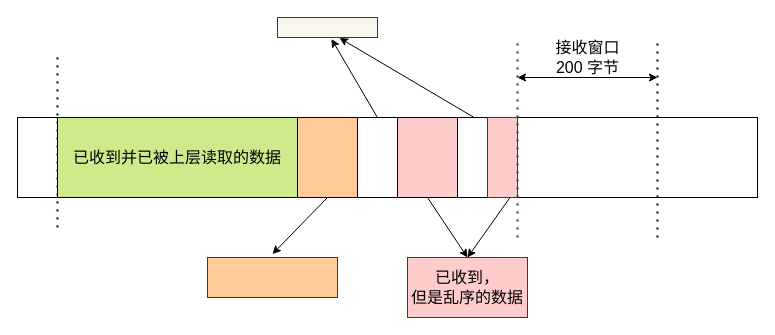
Some shapes in this 775 by 335 pixel diagram are drawn without their labels. The centre of each missing label's shape, as x and y in pixels:
"丢失的数据" goes at [327,27].
"未被上层 读取的有序数据" goes at [272,277].
